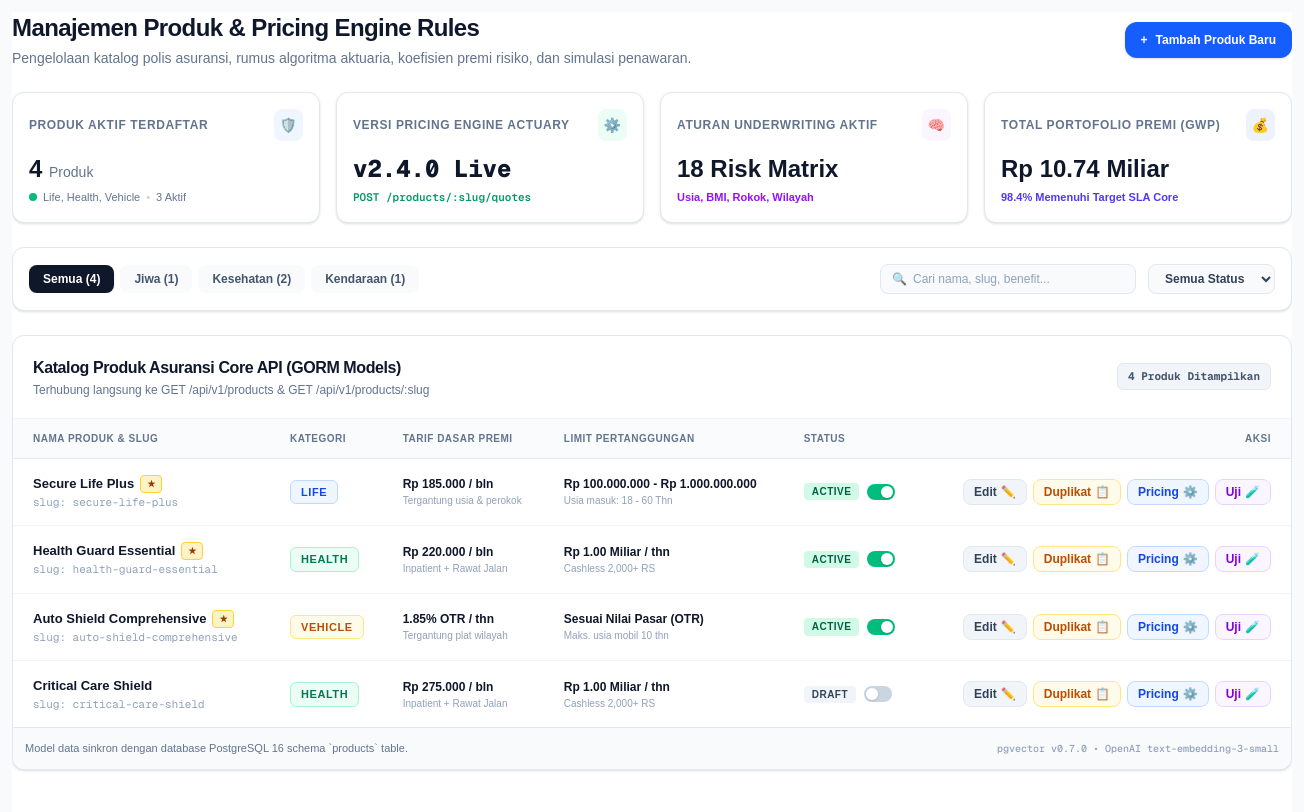
Test: ProductsPage & ProductManagementWorkbench › should toggle product status using the switch button
The width and height of the screenshot is (1304, 812).
Click the button named "Toggle status untuk Secure Life Plus": (881, 492) [867,484,895,500]
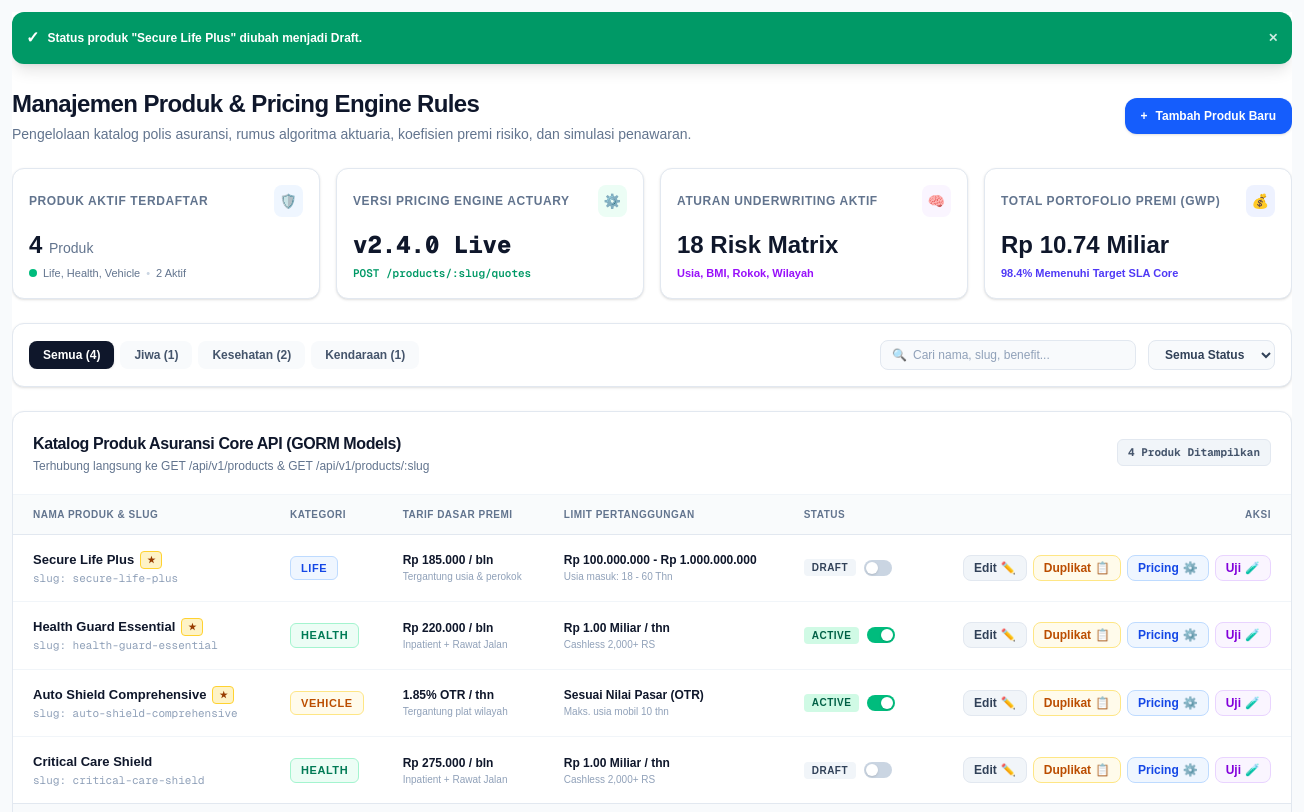
Now the text "Status produk \"Secure Life Plus\" diubah menjadi Draft." is shown, box [47,30,362,46]
